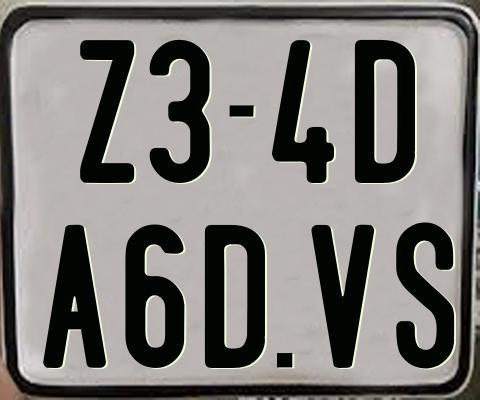3: (149, 38, 210, 184)
4: (271, 39, 337, 188)
6: (125, 221, 189, 370)
A: (43, 222, 110, 365)
D: (202, 224, 262, 373), (353, 38, 414, 184)
S: (393, 222, 456, 372)
V: (310, 223, 377, 369)
Z: (78, 38, 137, 181)
